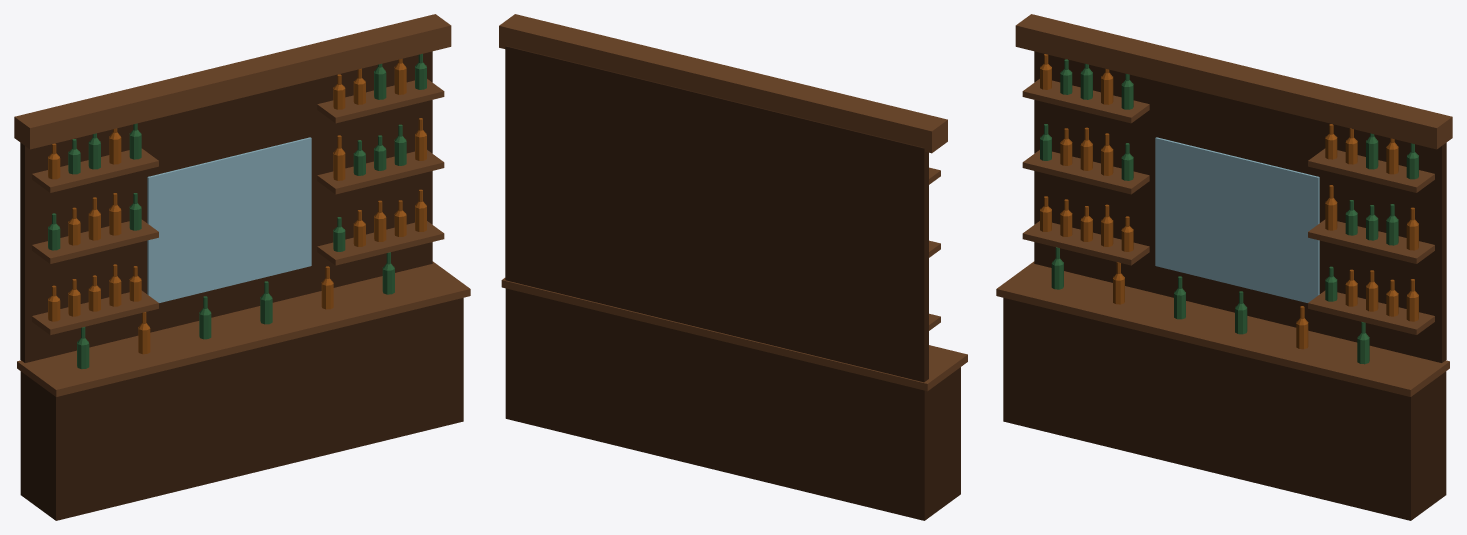
Rendered from SM_Bar_Back_Shelf.obj.
3 renders of one model, left to right at view 1: azimuth 30°, elevation 25°; view 2: azimuth 150°, elevation 25°; view 3: azimuth 330°, elevation 25°, orthographic. The views are drawn at different scales.
Visible parts, largest first — view 1: SM_Bar_Back_Shelf; view 2: SM_Bar_Back_Shelf; view 3: SM_Bar_Back_Shelf.
Boxes of the visible parts, bbox=[...] form: SM_Bar_Back_Shelf: bbox=[14, 14, 470, 520]; SM_Bar_Back_Shelf: bbox=[499, 14, 967, 520]; SM_Bar_Back_Shelf: bbox=[996, 14, 1452, 520].
Size of the model in its own units: 3.1 by 2.67 by 0.5.
